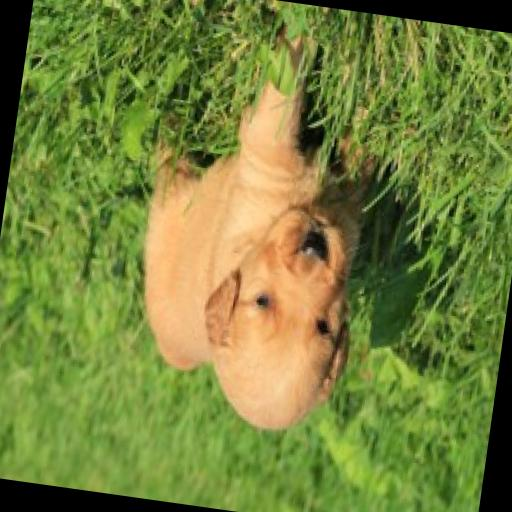dog: (102, 29, 420, 452)
